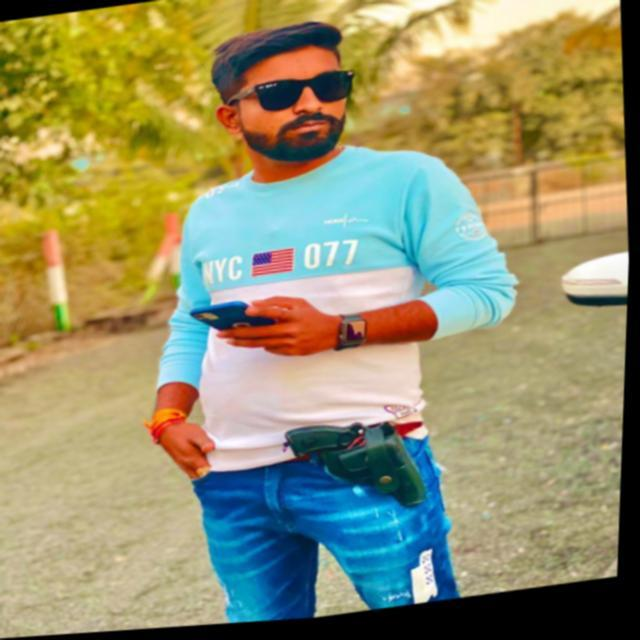weapon: (275, 409, 449, 533)
